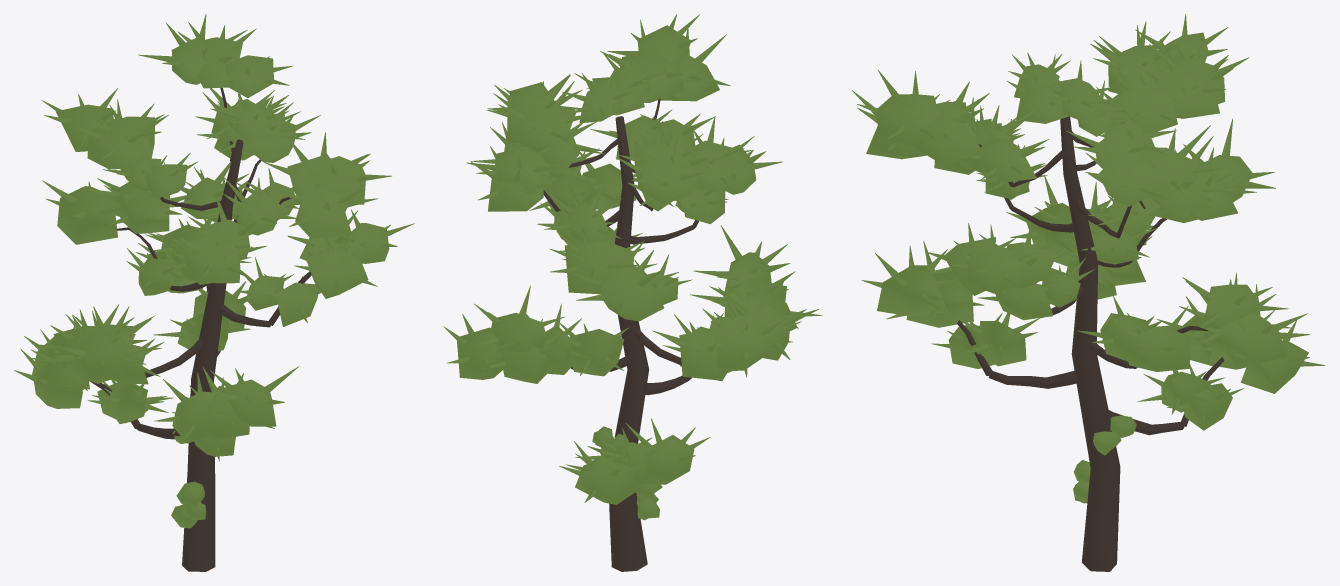
Rendered from Blender_PitchPine_1.glb.
3 renders of one model, left to right at view 1: azimuth 30°, elevation 25°; view 2: azimuth 150°, elevation 25°; view 3: azimuth 270°, elevation 25°, orthographic. The views are drawn at different scales.
Parts seen in each view (by area): view 1: Blender_PitchPine_1; view 2: Blender_PitchPine_1; view 3: Blender_PitchPine_1.
Boxes of the visible parts, x1,y1,x2,y2 form: Blender_PitchPine_1: (14, 14, 414, 571); Blender_PitchPine_1: (443, 14, 822, 571); Blender_PitchPine_1: (851, 14, 1325, 571).
Size of the model in its own units: 11.82 by 17.32 by 13.82.
